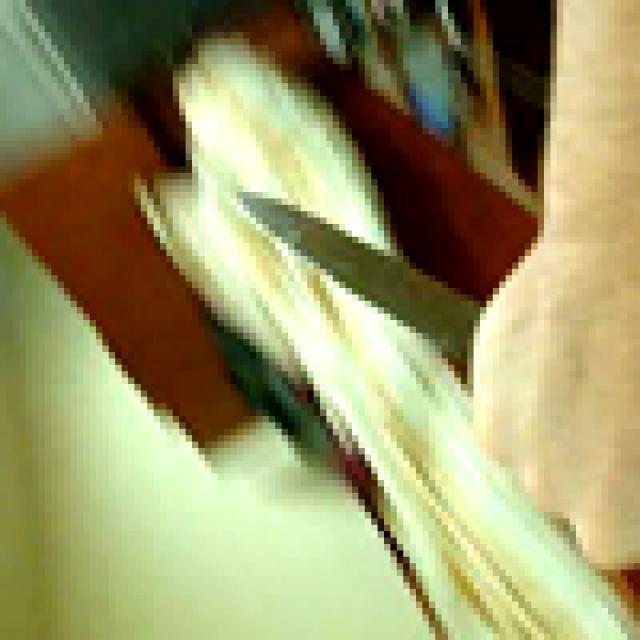Knife: (237, 179, 480, 371)
